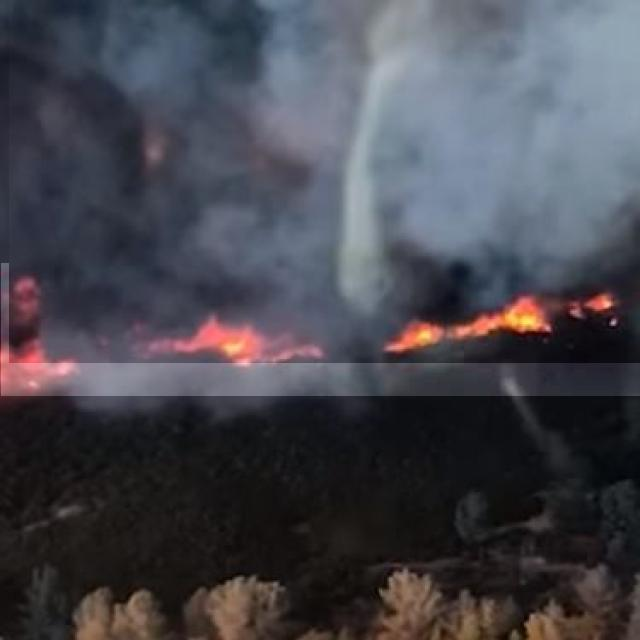Fire: (9, 0, 640, 363), (1, 263, 640, 396)
